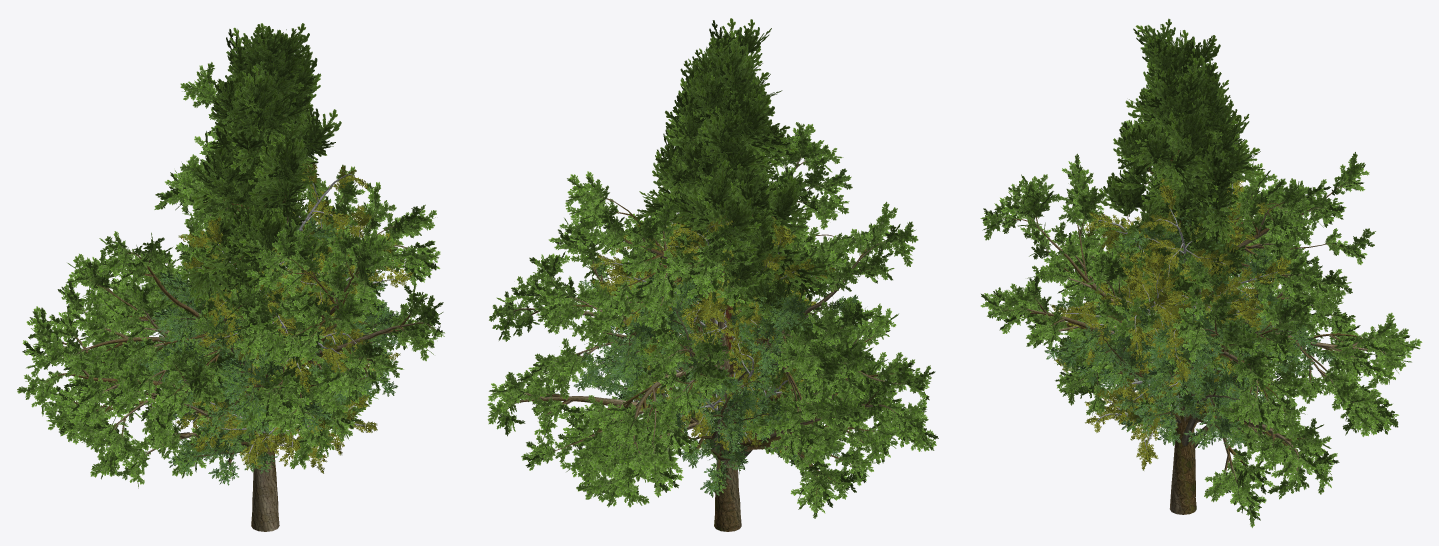
The model's file is drzewa.glb.
3 views of the same model, side by side, from view 1: azimuth 30°, elevation 25°; view 2: azimuth 150°, elevation 25°; view 3: azimuth 270°, elevation 25° (orthographic). The views are drawn at different scales.
Parts seen in each view (by area): view 1: dab-1, sosna-1, lipa-1, brzoza-1, brzoza-2, sosna-2, sosna-3; view 2: dab-1, sosna-1, lipa-1, brzoza-1, sosna-3, sosna-2, brzoza-2; view 3: dab-1, sosna-1, lipa-1, brzoza-1, brzoza-2, sosna-2, sosna-3.
Part boxes in pixels (x1=…): dab-1: x1=17, y1=62, x2=444, y2=531; sosna-1: x1=181, y1=23, x2=341, y2=375; lipa-1: x1=128, y1=197, x2=408, y2=485; brzoza-1: x1=158, y1=161, x2=413, y2=466; brzoza-2: x1=178, y1=220, x2=400, y2=473; sosna-2: x1=199, y1=126, x2=329, y2=325; sosna-3: x1=184, y1=125, x2=313, y2=330; dab-1: x1=487, y1=122, x2=938, y2=531; sosna-1: x1=632, y1=18, x2=834, y2=377; lipa-1: x1=573, y1=232, x2=873, y2=497; brzoza-1: x1=590, y1=181, x2=836, y2=453; sosna-3: x1=656, y1=137, x2=809, y2=344; sosna-2: x1=656, y1=143, x2=799, y2=355; brzoza-2: x1=633, y1=188, x2=815, y2=432; dab-1: x1=980, y1=114, x2=1422, y2=527; sosna-1: x1=1098, y1=18, x2=1264, y2=397; lipa-1: x1=1044, y1=200, x2=1336, y2=449; brzoza-1: x1=1054, y1=177, x2=1292, y2=434; brzoza-2: x1=1050, y1=211, x2=1252, y2=470; sosna-2: x1=1140, y1=147, x2=1229, y2=306; sosna-3: x1=1132, y1=162, x2=1252, y2=287.
Bounding box in the file's own units: 18.89 × 21 × 17.56.
11 materials, 11 textured.
